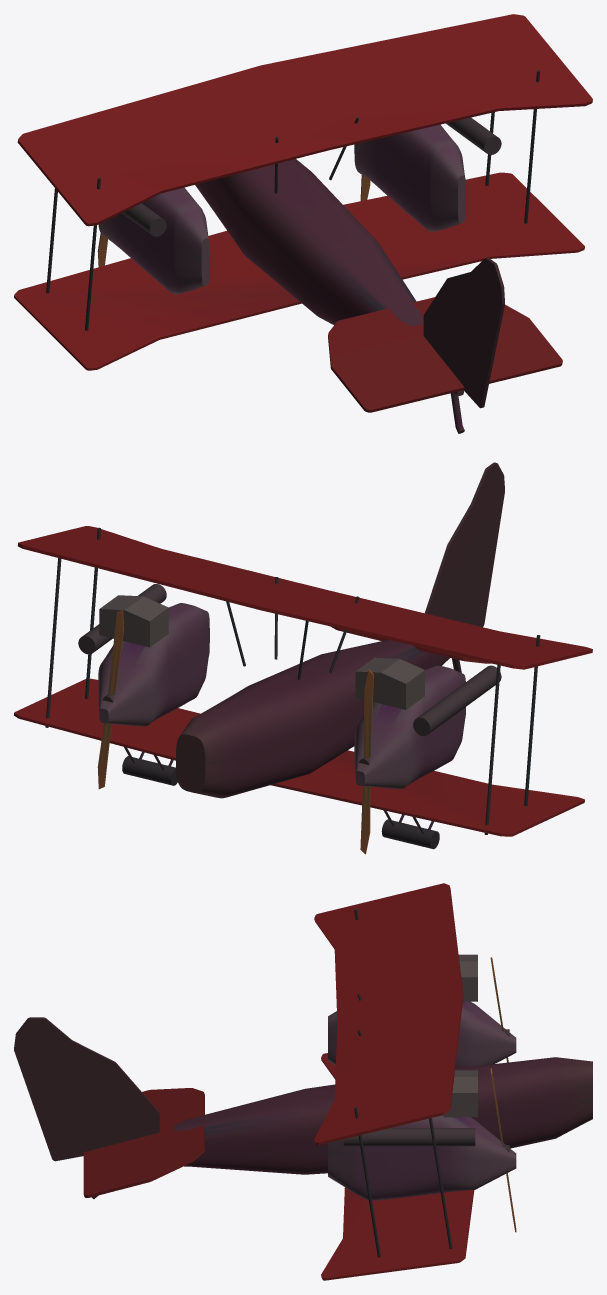
3 views of the same model, one above another, from view 1: azimuth 30°, elevation 25°; view 2: azimuth 150°, elevation 25°; view 3: azimuth 270°, elevation 25° (orthographic). The views are drawn at different scales.
Visible parts, largest first — view 1: upper, lower, body, tailplane, nacelle, fin, nacelle.001, exhaust, exhaust.001; view 2: body, upper, lower, nacelle, nacelle.001, fin, exhaust.001, blades.001, blades, wheel.001, wheel, exhaust (+3 smaller); view 3: upper, body, fin, nacelle, lower, tailplane, nacelle.001, exhaust.
Boxes of the visible parts, x1,y1,x2,y2 form: upper: (17,14,592,226); lower: (14,172,584,370); body: (195,159,463,395); tailplane: (328,297,562,412); nacelle: (354,124,465,231); fin: (423,257,504,408); nacelle.001: (98,187,209,294); exhaust: (446,117,501,154); exhaust.001: (122,203,166,236); body: (176,639,449,798); upper: (17,526,592,669); lower: (14,678,584,836); nacelle: (98,595,209,726); nacelle.001: (354,657,465,788); fin: (425,462,504,627); exhaust.001: (413,665,501,735); blades.001: (360,670,373,854); blades: (97,609,123,789); wheel.001: (381,819,439,849); wheel: (122,756,177,785); exhaust: (78,584,166,654); upper: (314,883,463,1145); body: (174,1057,592,1174); fin: (14,1017,159,1161); nacelle: (328,1070,516,1201); lower: (321,1053,474,1280); tailplane: (83,1088,204,1197); nacelle.001: (328,954,516,1067); exhaust: (343,1128,475,1146).
Size of the model in its own units: 11.22 by 4.71 by 12.
